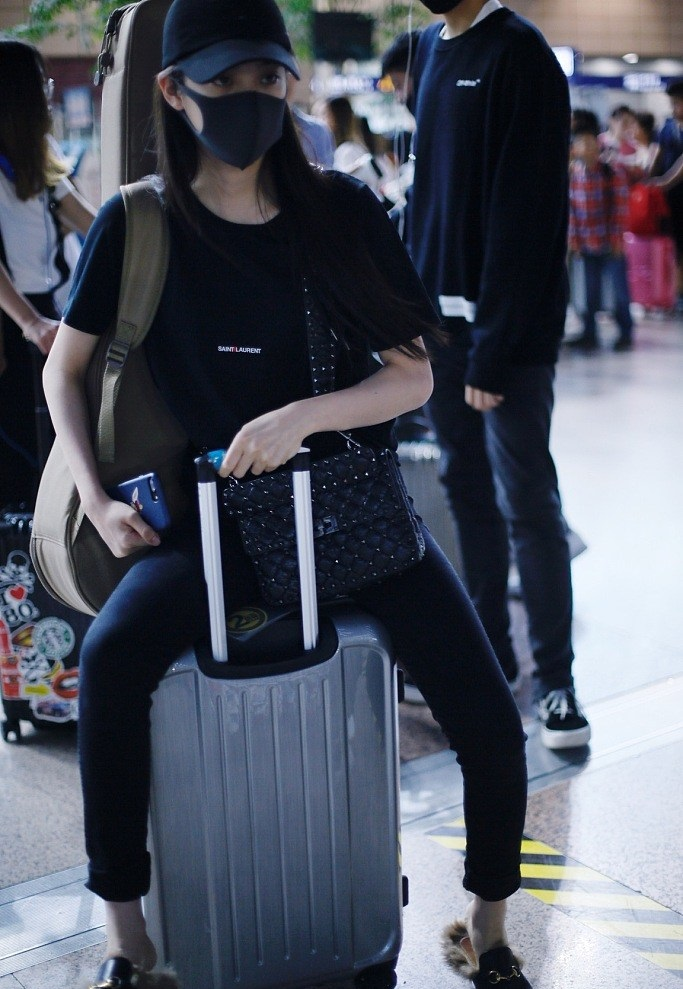face_mask: (190, 32, 287, 162)
